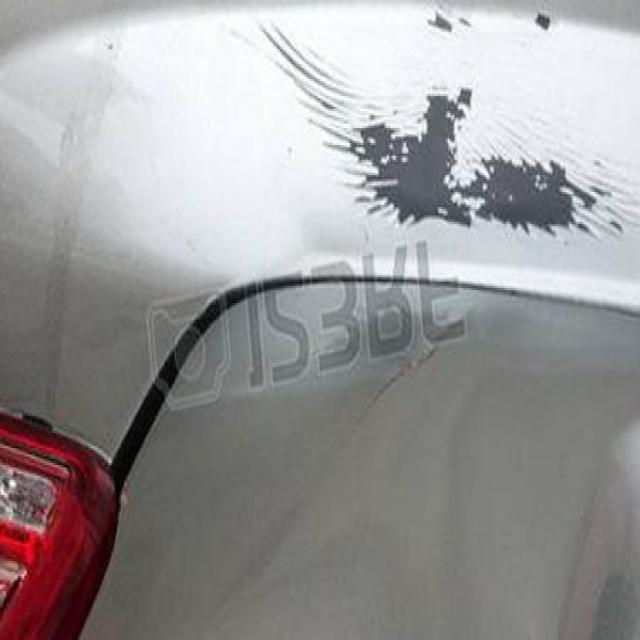scratch: (234, 8, 636, 256)
